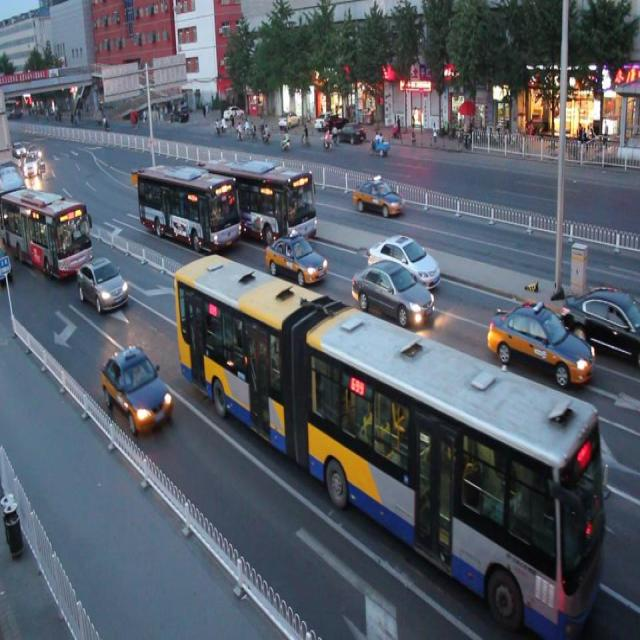car: (486, 298, 596, 386), (99, 340, 174, 436), (562, 283, 640, 363), (350, 258, 434, 326), (366, 232, 441, 296), (263, 233, 327, 285), (76, 254, 130, 314), (350, 172, 403, 218), (163, 165, 196, 193)
van: (173, 252, 602, 633), (202, 155, 317, 249), (136, 165, 240, 251), (1, 186, 93, 279)
